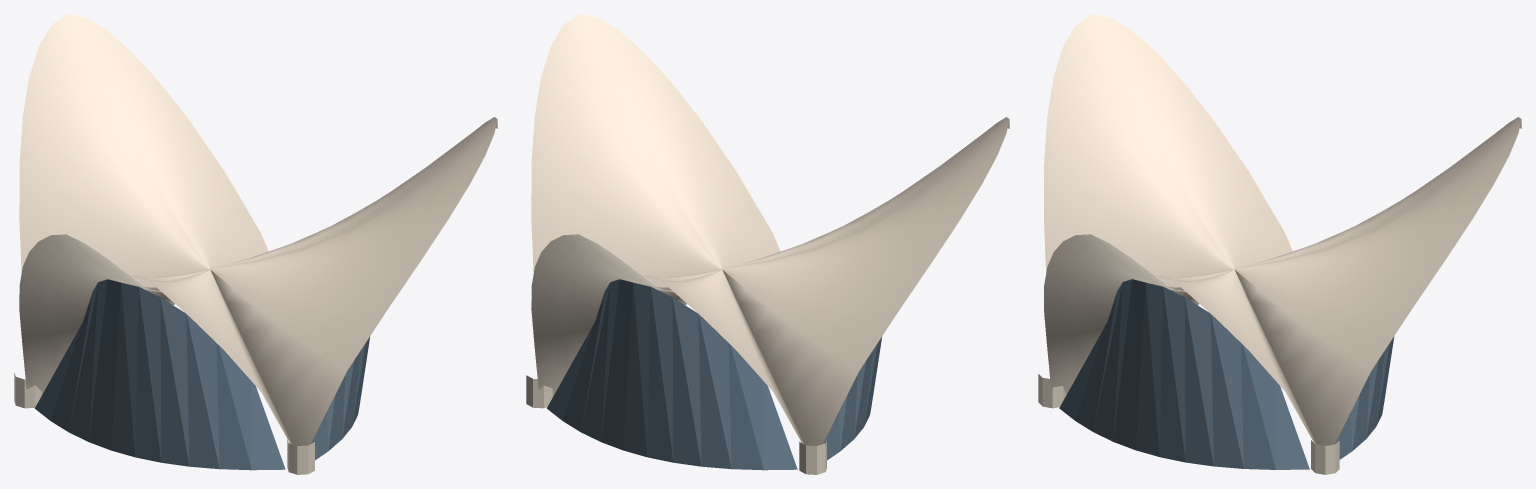
The model's file is lv-neon-museum.glb.
3 renders of one model, left to right at view 1: azimuth 30°, elevation 25°; view 2: azimuth 150°, elevation 25°; view 3: azimuth 270°, elevation 25°, orthographic.
Parts seen in each view (by area): view 1: Neon Museum (La Concha lobby); view 2: Neon Museum (La Concha lobby); view 3: Neon Museum (La Concha lobby).
Boxes of the visible parts, x1,y1,x2,y2 form: Neon Museum (La Concha lobby): [14, 14, 497, 474]; Neon Museum (La Concha lobby): [526, 14, 1009, 474]; Neon Museum (La Concha lobby): [1038, 14, 1521, 474].
Bounding box in the file's own units: 16.17 × 9.95 × 15.15.
